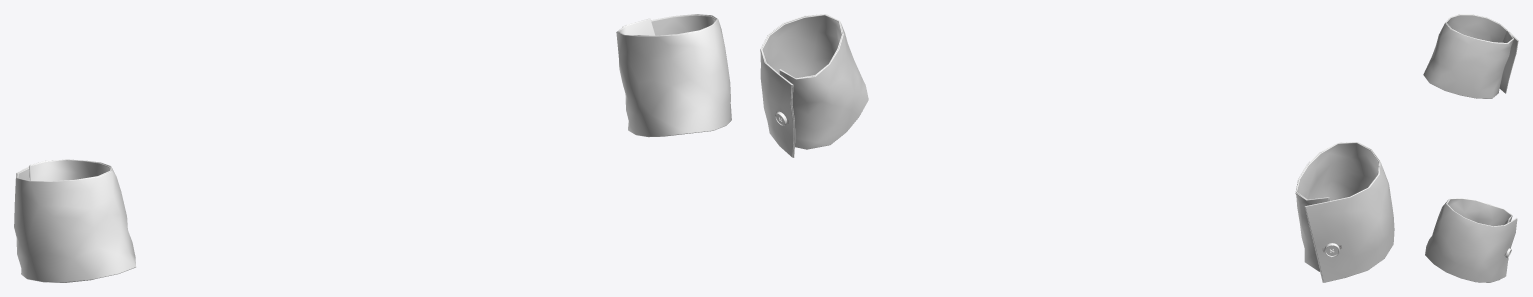
Rendered from 1_button.glb.
3 views of the same model, side by side, from view 1: azimuth 30°, elevation 25°; view 2: azimuth 150°, elevation 25°; view 3: azimuth 270°, elevation 25° (orthographic). The views are drawn at different scales.
Visible parts, largest first — view 1: Pattern_2052443_Node, Pattern_2052444_Node, inner_Node, inner_Node.001; view 2: Pattern_2052444_Node, Pattern_2052443_Node, inner_Node.001, inner_Node; view 3: Pattern_2052444_Node, Pattern_2052443_Node, inner_Node, inner_Node.001.
Part boxes in pixels (x1,y1,x2,y2): Pattern_2052443_Node: [14, 160, 136, 282]; Pattern_2052444_Node: [616, 14, 731, 137]; inner_Node: [17, 159, 110, 282]; inner_Node.001: [617, 14, 716, 35]; Pattern_2052444_Node: [760, 14, 868, 157]; Pattern_2052443_Node: [1295, 142, 1394, 282]; inner_Node.001: [761, 14, 842, 157]; inner_Node: [1296, 142, 1379, 282]; Pattern_2052444_Node: [1425, 198, 1517, 282]; Pattern_2052443_Node: [1423, 14, 1518, 98]; inner_Node: [1446, 14, 1518, 93]; inner_Node.001: [1447, 198, 1516, 226].
Size of the model in its own units: 60.06 by 10.37 by 11.59.
Materials: 10 (2 with a texture image).
